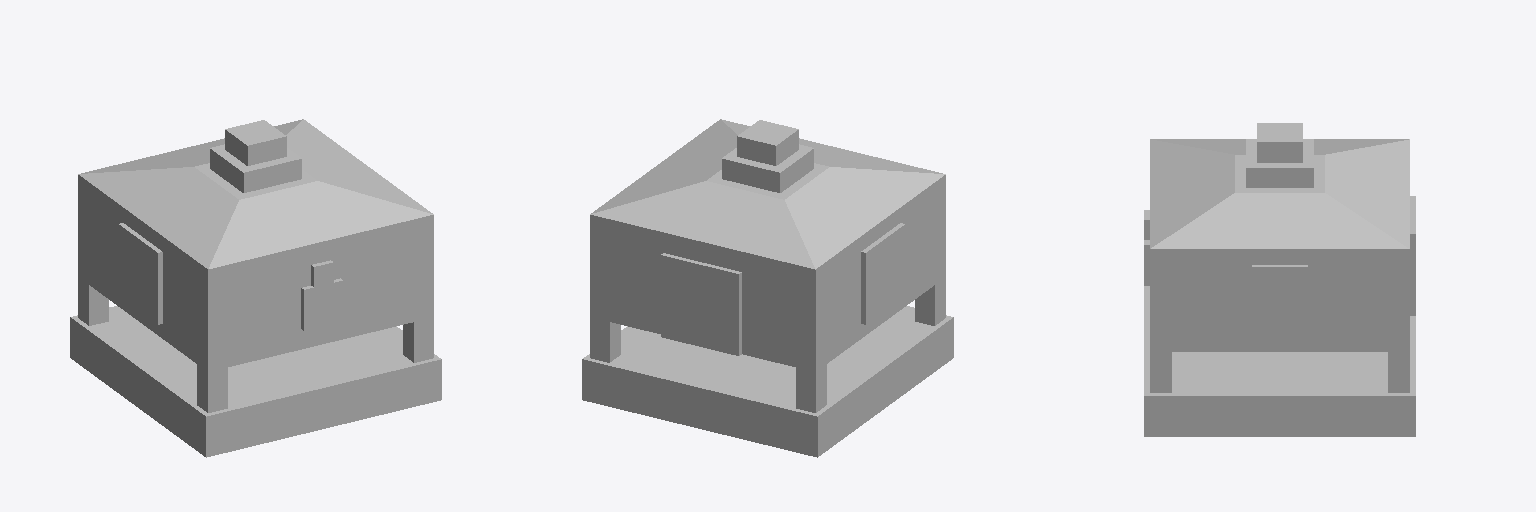
Rendered from crystallizer.obj.
3 views of the same model, side by side, from view 1: azimuth 30°, elevation 25°; view 2: azimuth 150°, elevation 25°; view 3: azimuth 270°, elevation 25° (orthographic).
Parts seen in each view (by area): view 1: Cube_Cube.001; view 2: Cube_Cube.001; view 3: Cube_Cube.001.
Boxes of the visible parts, box(x1,y1,x2,y2) form: Cube_Cube.001: box(70, 119, 441, 457); Cube_Cube.001: box(582, 119, 953, 457); Cube_Cube.001: box(1144, 123, 1415, 436).
Size of the model in its own units: 3 by 3 by 3.